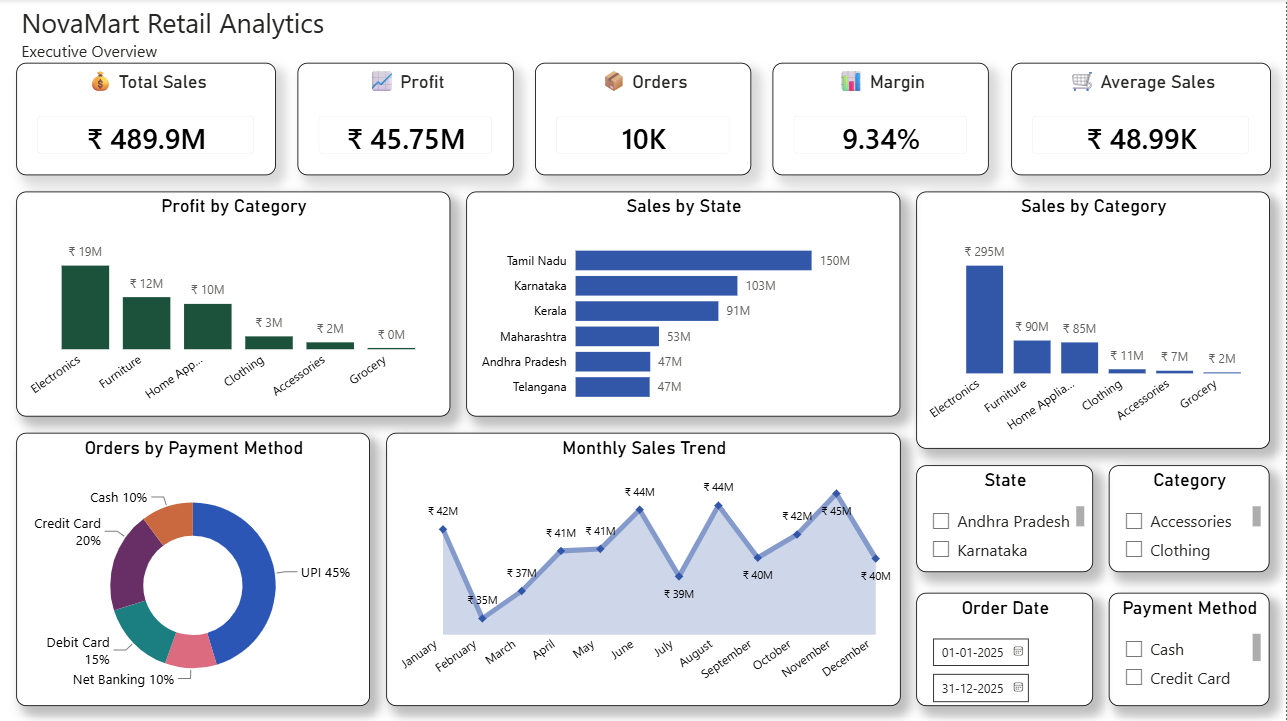

Layout of this report page (visuals, bound fields, positions):
{"tool":"powerbi","page":{"name":":  📊 Executive Overview","canvas":[1280,720],"ordinal":0},"visuals":[{"type":"cardVisual","title":"💰 Total Sales","fields":{"Data":["Measures (2).Total Sales"]},"box":[16,64,258.2,112],"z":0,"group":"g2"},{"type":"group","id":"g1","title":"Group 1","box":[16,192,1248,256],"z":0},{"type":"cardVisual","title":"🛒 Average Sales","fields":{"Data":["Measures (2).Average sales"]},"box":[1005.8,64,258.2,112],"z":1000,"group":"g2"},{"type":"lineChart","title":"Monthly Sales Trend","fields":{"Category":["NovaMart Sales.order_date.Variation.Date Hierarchy.Month","NovaMart Sales.order_date.Variation.Date Hierarchy.Day"],"Y":["Measures (2).Total Sales"]},"box":[384,432,512,272],"z":1000},{"type":"group","id":"g2","title":"Group 3","box":[16,64,1248,112],"z":2000},{"type":"cardVisual","title":"📊 Margin","fields":{"Data":["Measures (2).Profit Margin %"]},"box":[769.1,64,215.2,112],"z":2000,"group":"g2"},{"type":"slicer","title":"Category","fields":{"Values":["NovaMart Sales.category"]},"box":[1104,464,160,106.7],"z":2000,"group":"g3"},{"type":"textbox","box":[16,0,320,64],"z":2500},{"type":"cardVisual","title":"📦 Orders","fields":{"Data":["Measures (2).Total Orders"]},"box":[532.4,64,215.2,112],"z":3000,"group":"g2"},{"type":"donutChart","title":"Orders by Payment Method","fields":{"Category":["NovaMart Sales.payment_method"],"Y":["Measures (2).Total Orders"]},"box":[16,432,352,272],"z":3000},{"type":"slicer","title":"Payment Method","fields":{"Values":["NovaMart Sales.payment_method"]},"box":[1104,591.1,160,112.9],"z":3000,"group":"g3"},{"type":"cardVisual","title":"📈 Profit","fields":{"Data":["Measures (2).Total Profit"]},"box":[295.7,64,215.2,112],"z":4000,"group":"g2"},{"type":"slicer","title":"State","fields":{"Values":["NovaMart Sales.state"]},"box":[912,464,176,106.7],"z":4000,"group":"g3"},{"type":"group","id":"g3","title":"Group 2","box":[912,464,352,240],"z":5000},{"type":"slicer","title":"Order Date","fields":{"Values":["NovaMart Sales.order_date"]},"box":[912,591.1,176,112.9],"z":5000,"group":"g3"},{"type":"clusteredColumnChart","title":"Sales by Category","fields":{"Category":["NovaMart Sales.category"],"Y":["Measures (2).Total Sales"]},"box":[912,192,352,256],"z":6000,"group":"g1"},{"type":"clusteredColumnChart","title":"Profit  by Category","fields":{"Category":["NovaMart Sales.category"],"Y":["Measures (2).Total Profit"]},"box":[16,192,432,224],"z":7000,"group":"g1"},{"type":"barChart","title":"Sales by State","fields":{"Category":["NovaMart Sales.state"],"Y":["Sum(NovaMart Sales.sales)"]},"box":[464,192,432,224],"z":9000,"group":"g1"}]}

Visuals, with their boxes in screenshot pixels (x1, y1, x2, y2), scaled from the page's 1280x720 canvas onto the 1287x721 screenshot:
"💰 Total Sales" cardVisual: 16, 64, 276, 176
"Group 1" group: 16, 192, 1271, 449
"🛒 Average Sales" cardVisual: 1011, 64, 1271, 176
"Monthly Sales Trend" lineChart: 386, 433, 901, 705
"Group 3" group: 16, 64, 1271, 176
"📊 Margin" cardVisual: 773, 64, 990, 176
"Category" slicer: 1110, 465, 1271, 571
textbox: 16, 0, 338, 64
"📦 Orders" cardVisual: 535, 64, 752, 176
"Orders by Payment Method" donutChart: 16, 433, 370, 705
"Payment Method" slicer: 1110, 592, 1271, 705
"📈 Profit" cardVisual: 297, 64, 514, 176
"State" slicer: 917, 465, 1094, 571
"Group 2" group: 917, 465, 1271, 705
"Order Date" slicer: 917, 592, 1094, 705
"Sales by Category" clusteredColumnChart: 917, 192, 1271, 449
"Profit  by Category" clusteredColumnChart: 16, 192, 450, 417
"Sales by State" barChart: 467, 192, 901, 417
